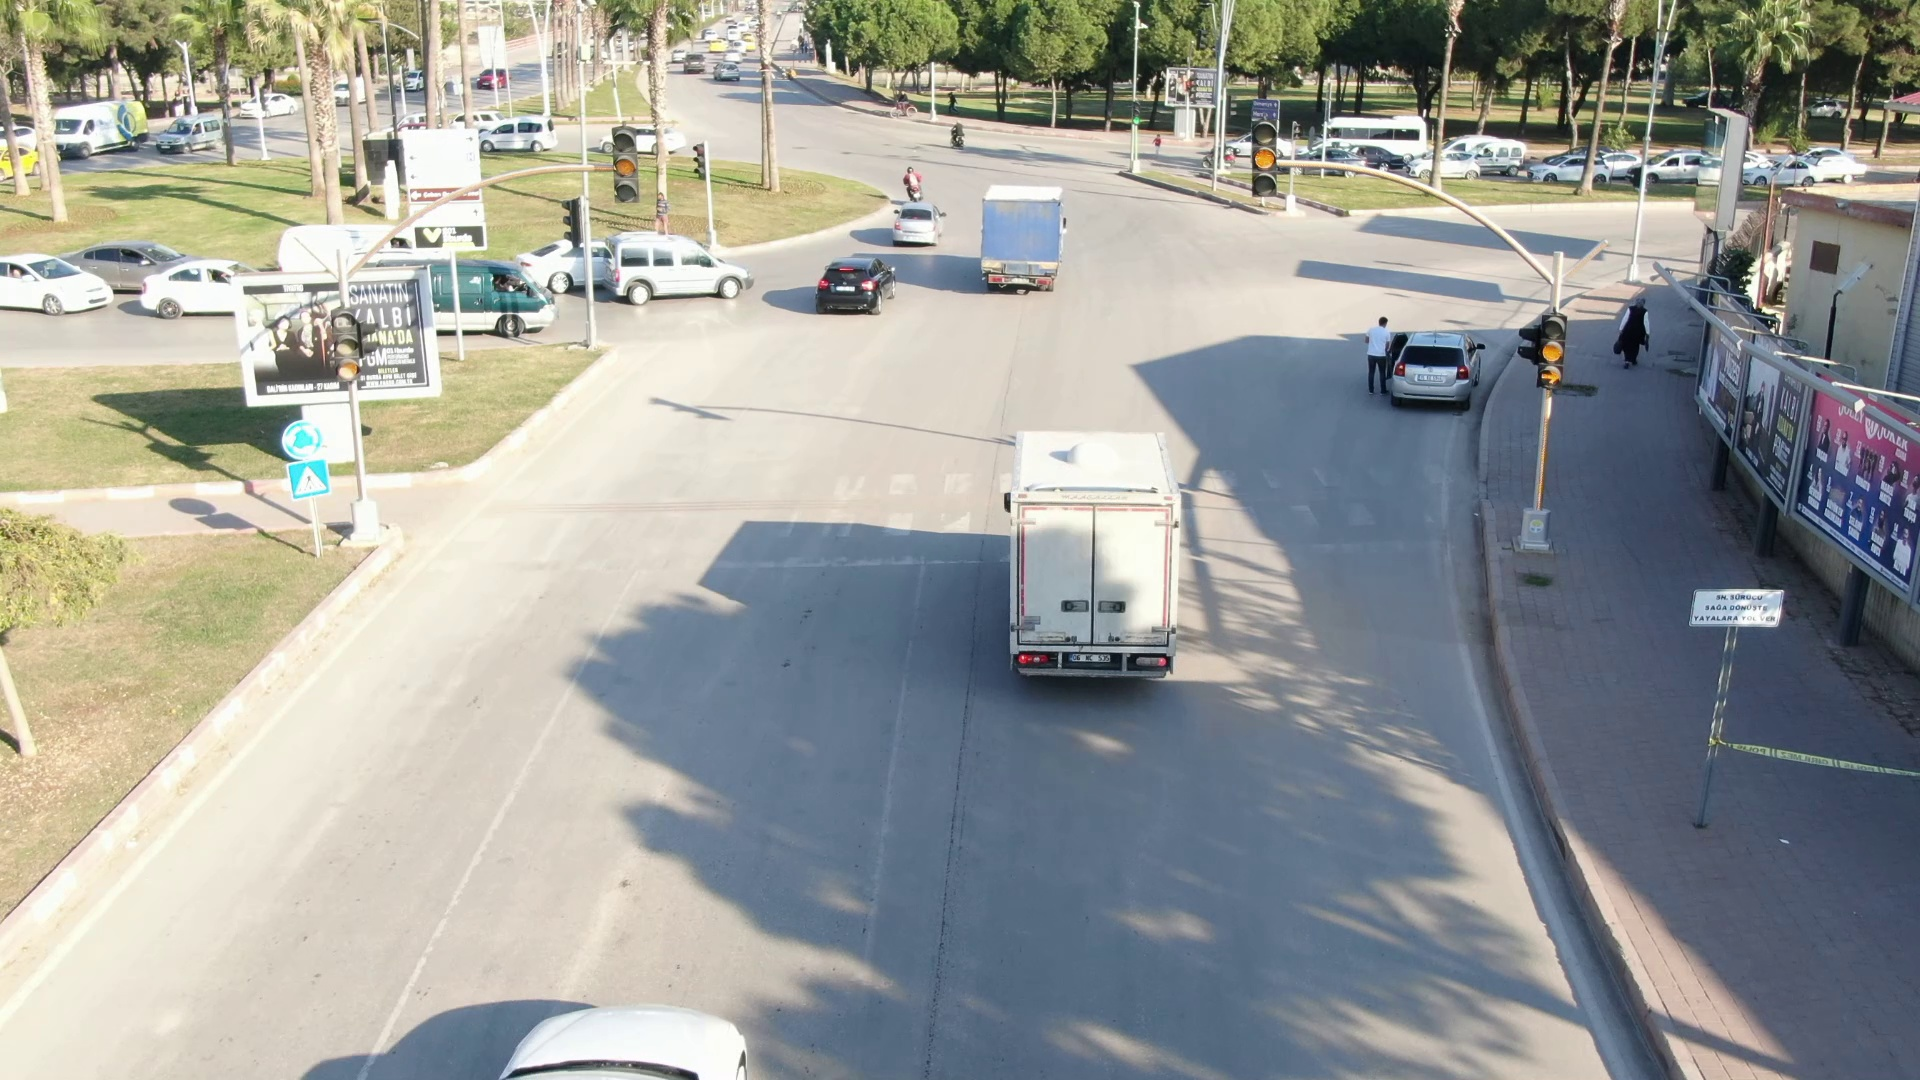car: (979, 406, 1211, 694), (970, 176, 1086, 301), (601, 227, 763, 310), (1, 243, 130, 324), (1389, 323, 1487, 423), (799, 244, 901, 324), (886, 198, 952, 252)
person: (1604, 295, 1660, 369), (1356, 312, 1395, 404)
